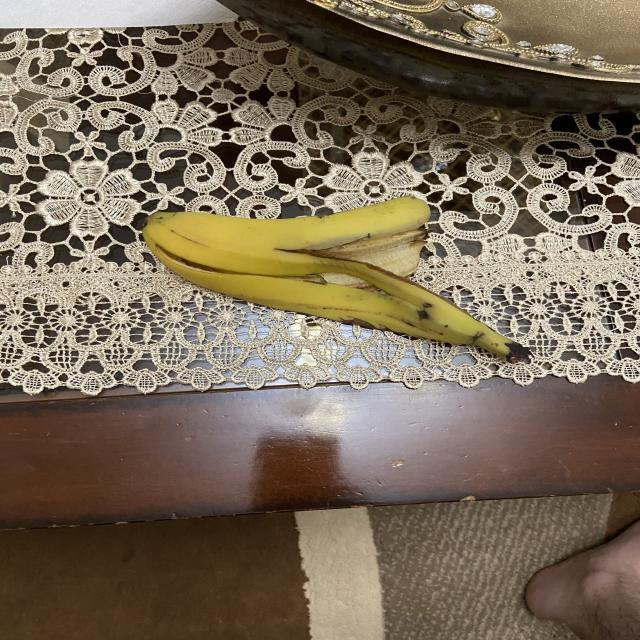banana-peel: (141, 195, 531, 364)
